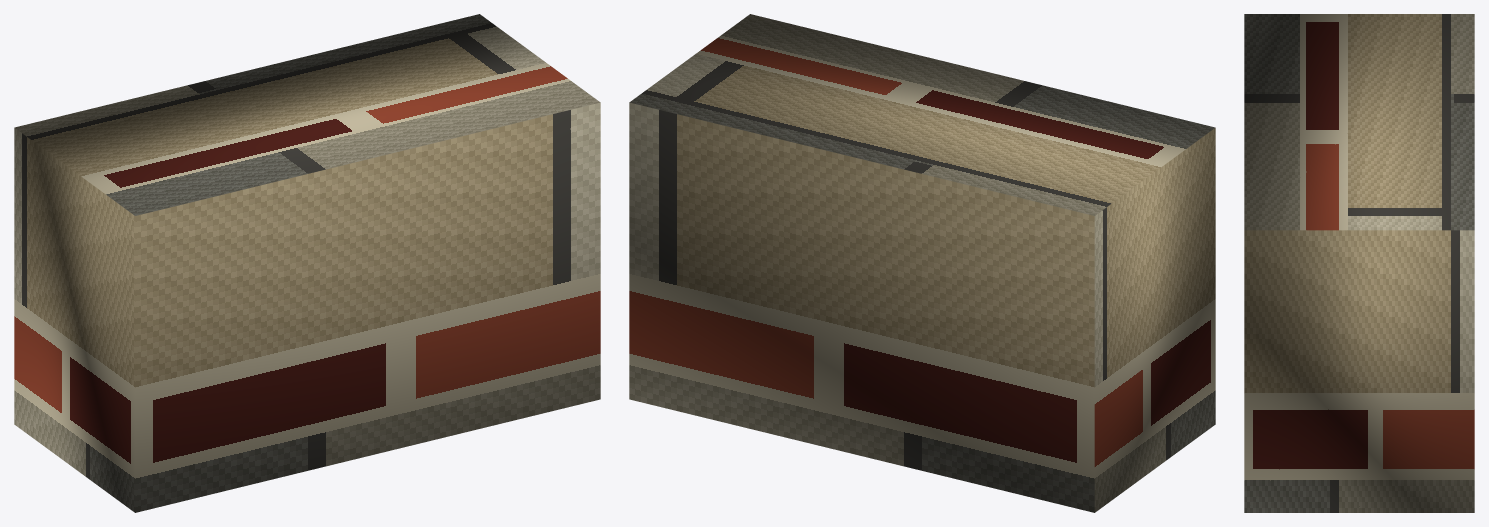
Rendered from byzantine stone slab2.glb.
3 views of the same model, side by side, from view 1: azimuth 30°, elevation 25°; view 2: azimuth 150°, elevation 25°; view 3: azimuth 270°, elevation 25° (orthographic). The views are drawn at different scales.
Parts seen in each view (by area): view 1: Byzantine Stone Slab2; view 2: Byzantine Stone Slab2; view 3: Byzantine Stone Slab2.
Part boxes in pixels (<box>): Byzantine Stone Slab2: <box>14,14,600,512</box>; Byzantine Stone Slab2: <box>629,14,1215,512</box>; Byzantine Stone Slab2: <box>1244,14,1474,512</box>.
Bounding box in the file's own units: 0.5 × 0.3048 × 0.225.
1 material, 1 textured.
